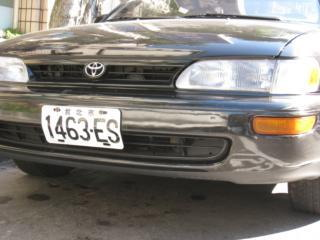plate: (39, 102, 123, 153)
